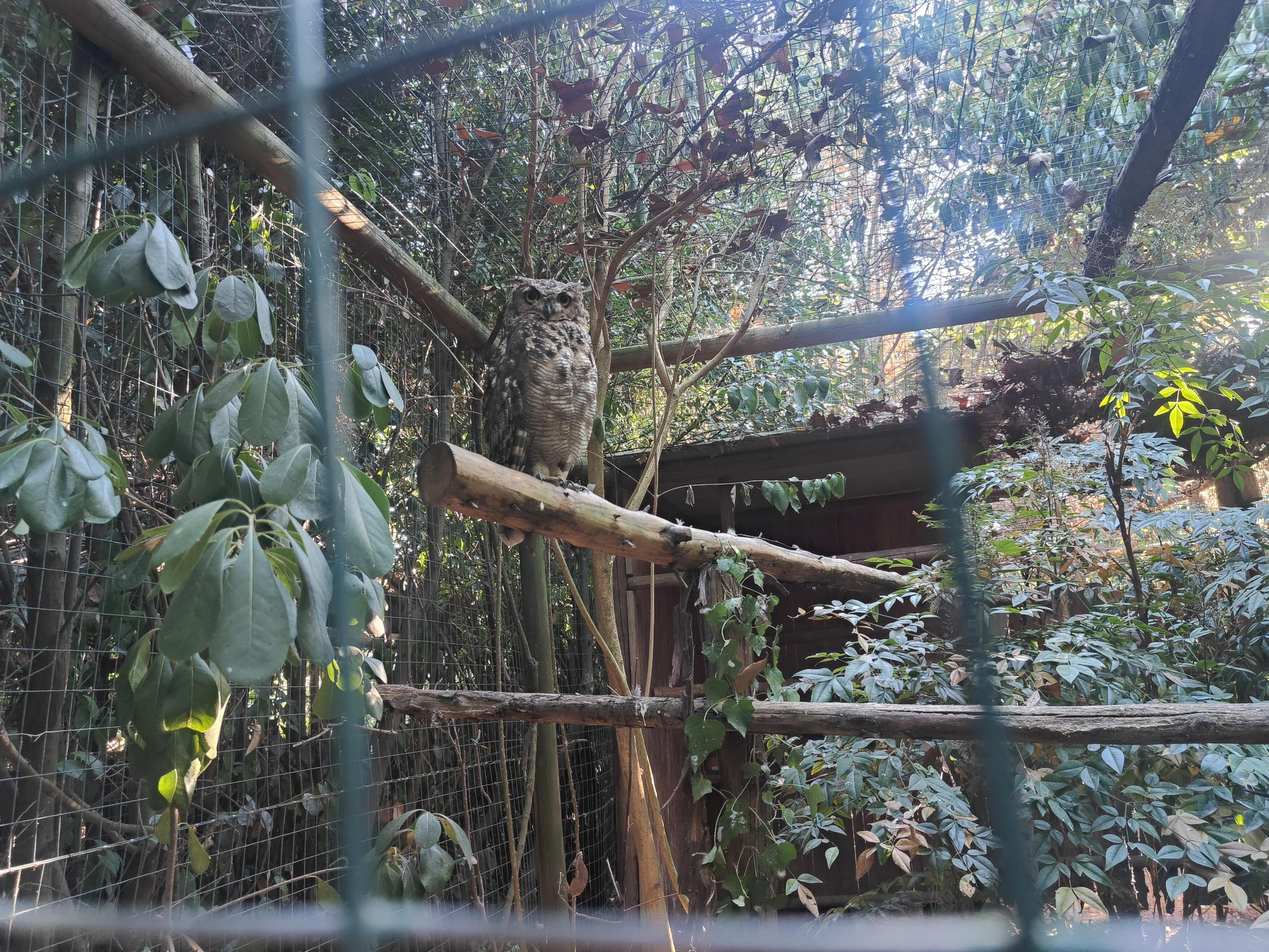apple: (482, 276, 598, 547)
